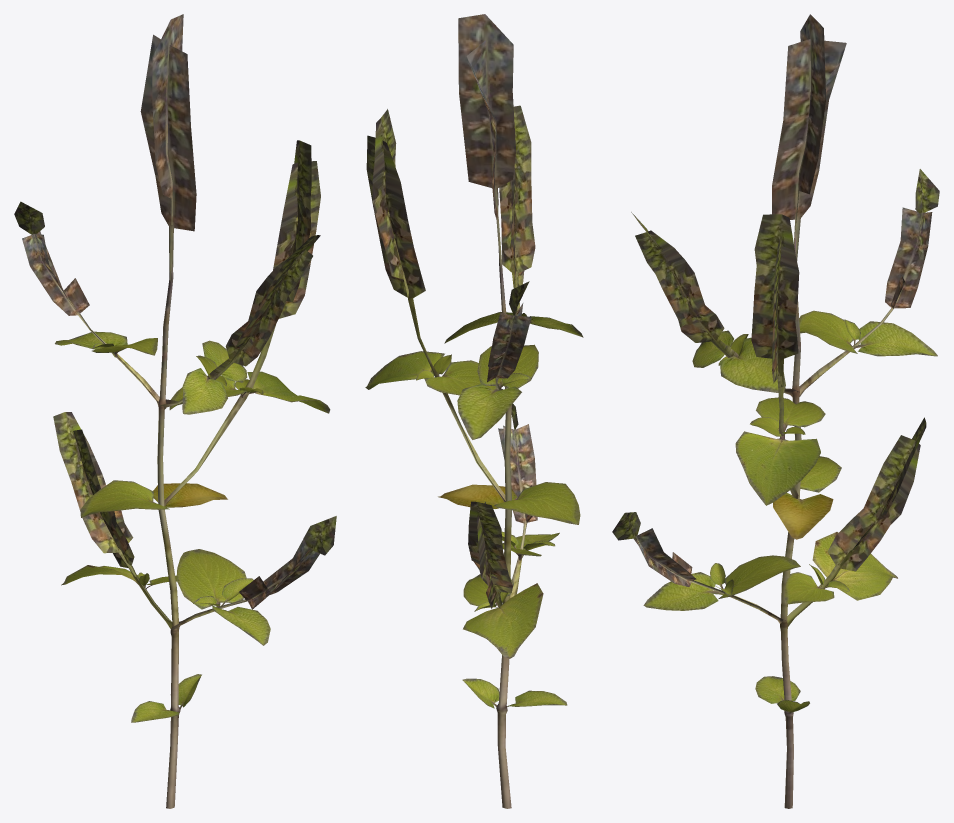
The model's file is shrub_03_c.gltf.
3 renders of one model, left to right at view 1: azimuth 30°, elevation 25°; view 2: azimuth 150°, elevation 25°; view 3: azimuth 270°, elevation 25°, orthographic. The views are drawn at different scales.
Visible parts, largest first — view 1: shrub_03_c; view 2: shrub_03_c; view 3: shrub_03_c.
Part boxes in pixels (bbox=[...]): shrub_03_c: bbox=[14, 14, 336, 808]; shrub_03_c: bbox=[365, 14, 583, 808]; shrub_03_c: bbox=[612, 14, 939, 808].
Size of the model in its own units: 0.0958 by 0.3044 by 0.1132.
1 material, 1 textured.
